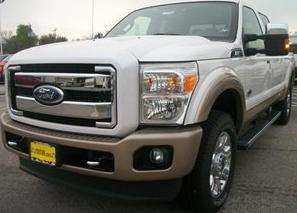front_view: (1, 53, 207, 190)
headlight: (128, 56, 202, 133)
side_glass: (233, 5, 286, 73)
